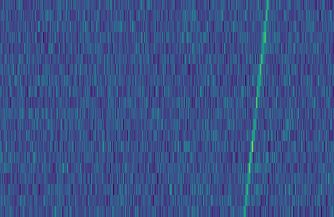signal: (241, 0, 275, 217)
